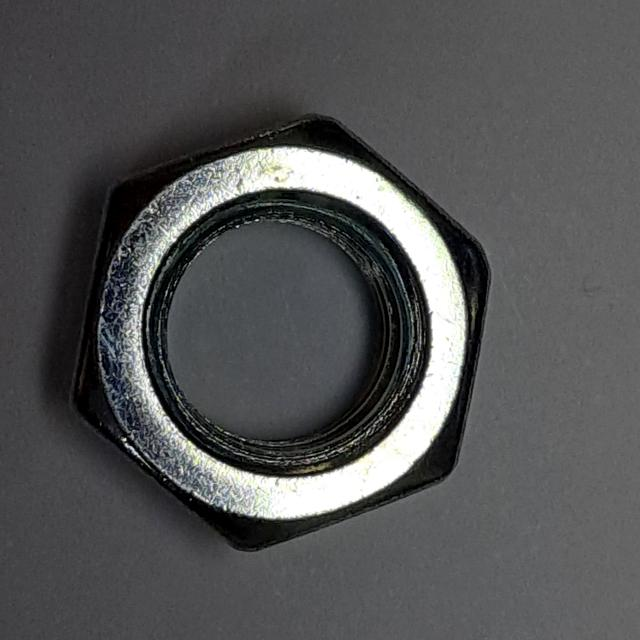Excellent: (55, 100, 505, 571)
